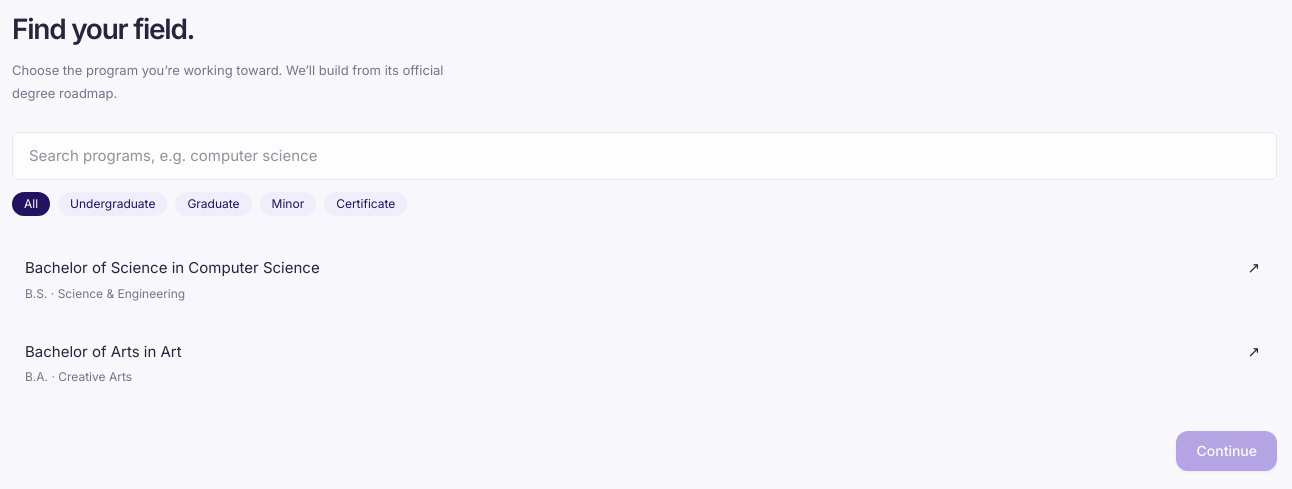
Scenario: a program with no roadmap cannot be continued
Click the text "Bachelor of Arts in Art".
click(103, 351)  # box x1=25 y1=341 x2=1260 y2=363
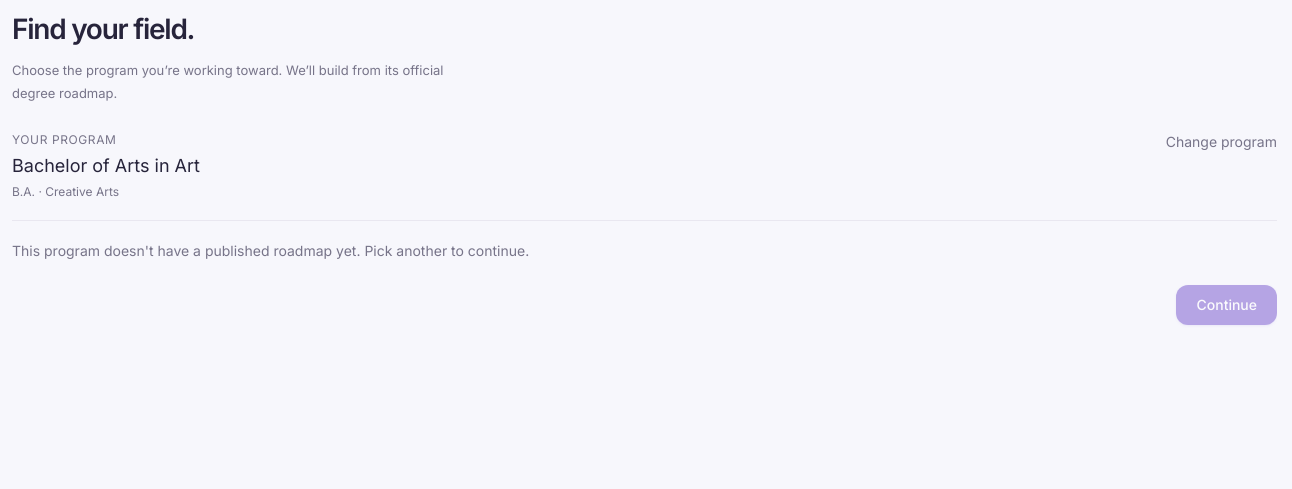
Expected: the button "Continue" is disabled, x1=1176 y1=285 x2=1277 y2=325
Expected: the text "doesn.t have a published roadmap" is shown, x1=12 y1=242 x2=529 y2=259
